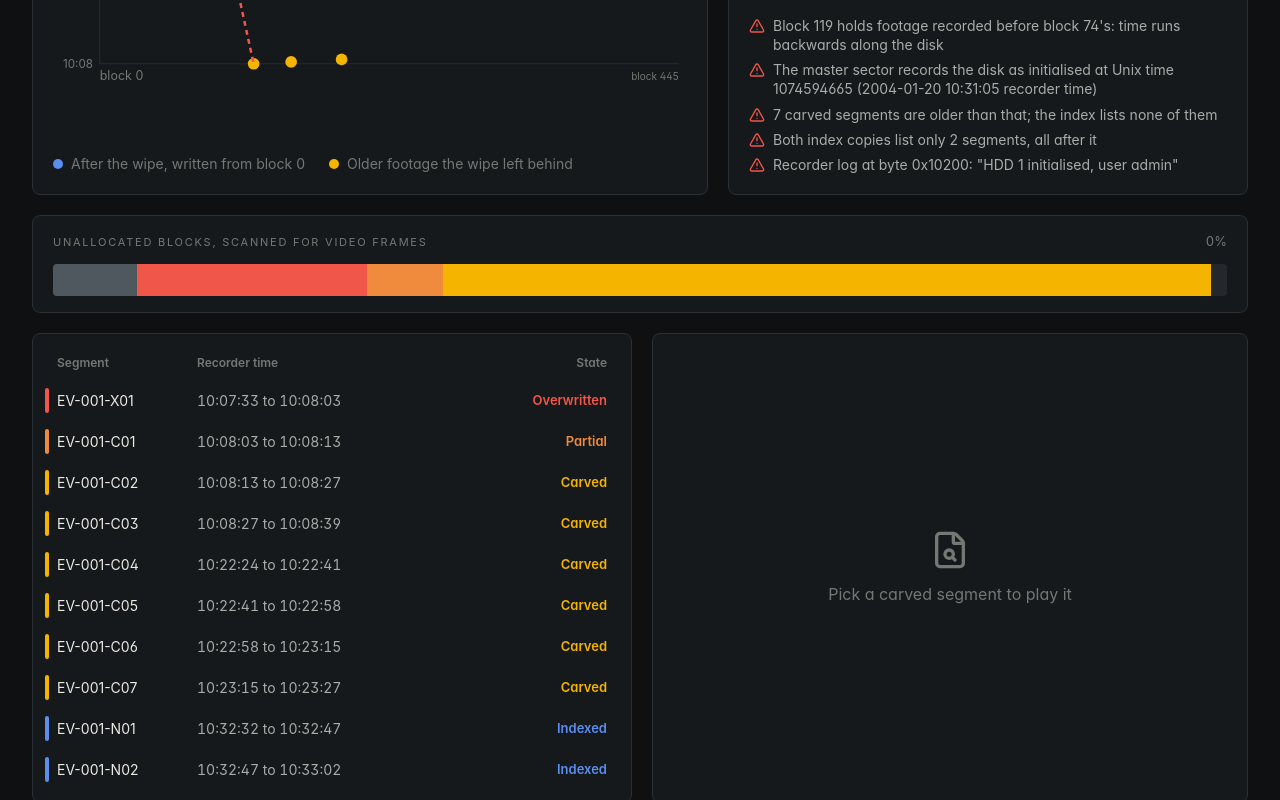
Recovery › a segment with nothing decodable says so instead of showing a player
(page scrolled)
Click the button "EV-001-X01 10:07:33 to 10:08:03 Overwritten" at (332, 400), box x1=45 y1=380 x2=619 y2=421
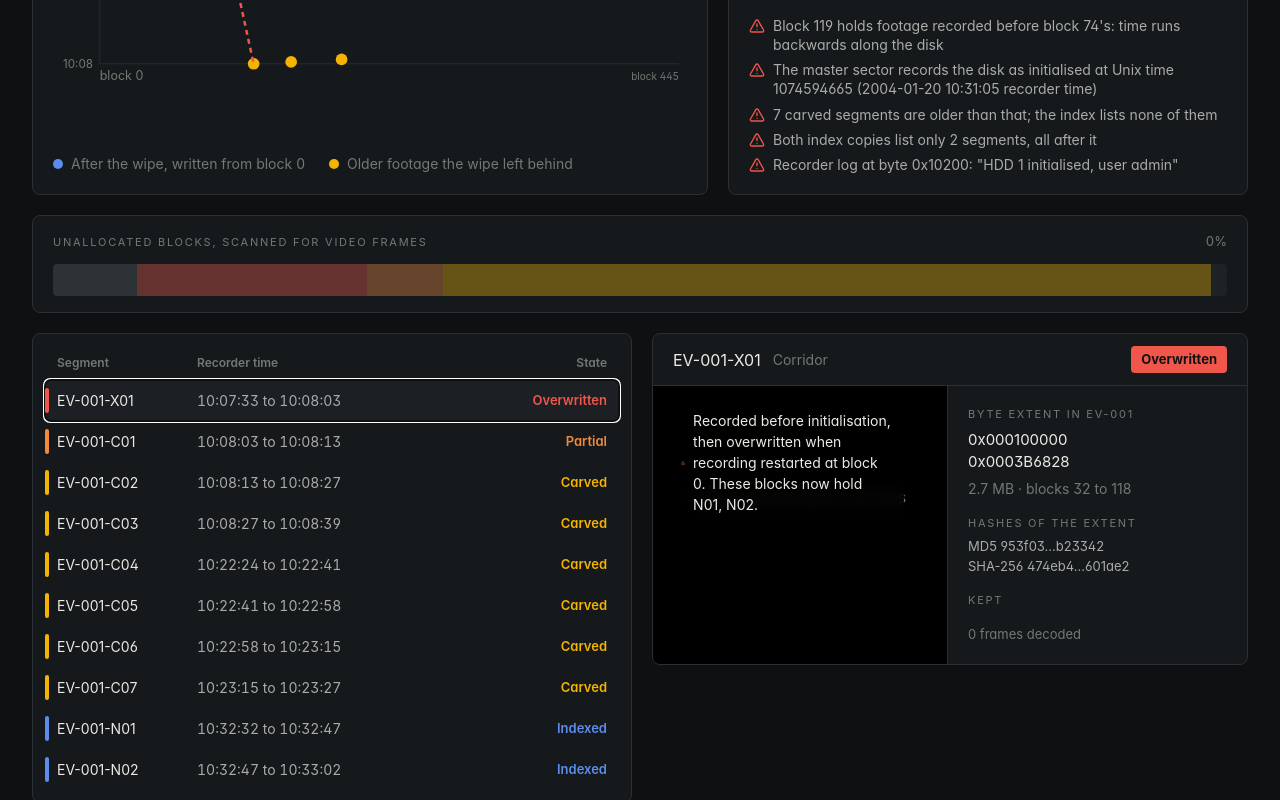
Check: the text "Nothing decodable survives" is shown, box x1=694 y1=486 x2=906 y2=506
